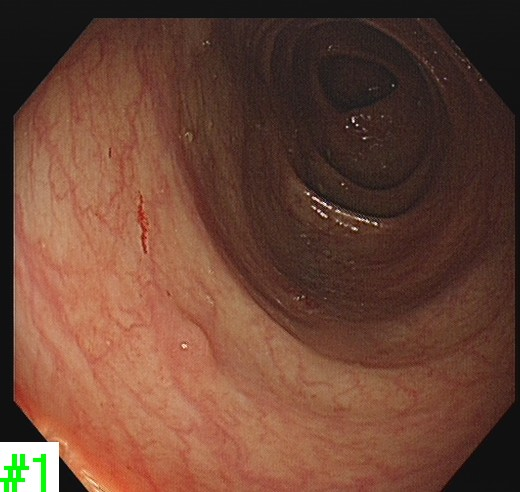adenoma: (180, 317, 212, 360)
